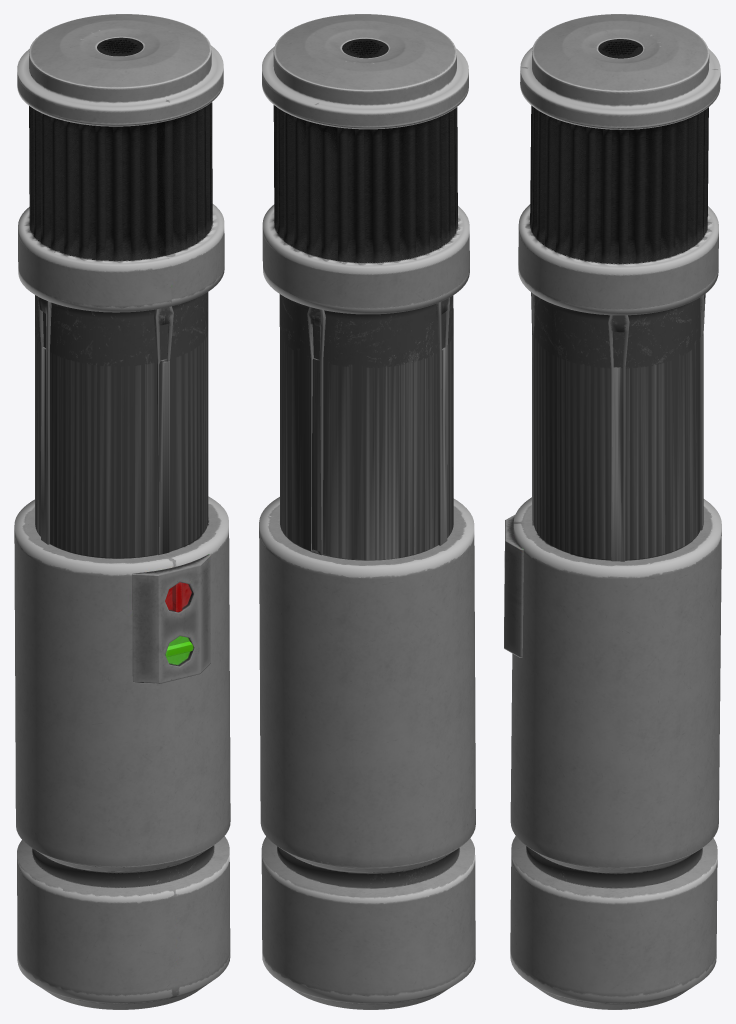
File: Device_3.fbx
3 views of the same model, side by side, from view 1: azimuth 30°, elevation 25°; view 2: azimuth 150°, elevation 25°; view 3: azimuth 270°, elevation 25° (orthographic).
Visible parts, largest first — view 1: defaultMaterial.002; view 2: defaultMaterial.002; view 3: defaultMaterial.002.
Part boxes in pixels (<box>): defaultMaterial.002: <box>14,14,230,1009</box>; defaultMaterial.002: <box>259,14,475,1009</box>; defaultMaterial.002: <box>504,14,721,1009</box>.
Bounding box in the file's own units: 53.1 × 251 × 53.43.
Materials: 1 (1 with a texture image).
